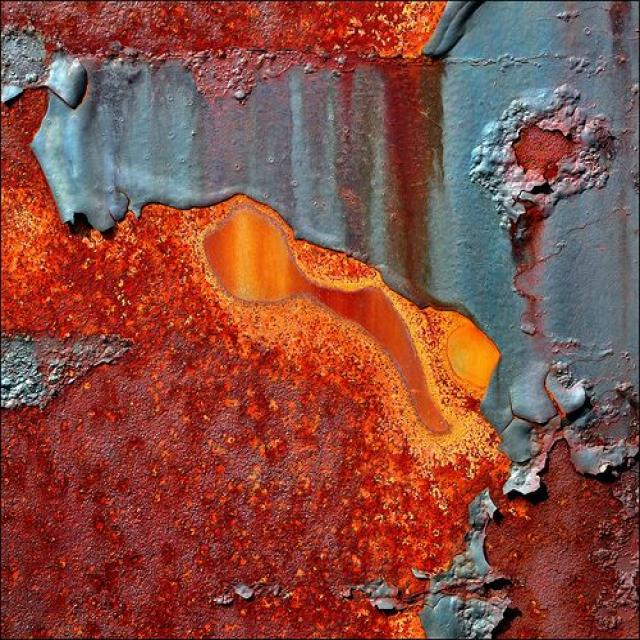Uniform Corrosion: (0, 90, 636, 639), (3, 1, 443, 98), (507, 110, 580, 189), (512, 195, 548, 291)
